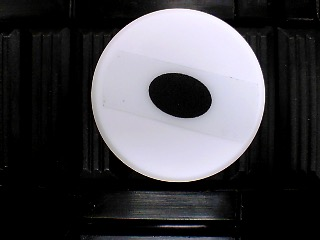BOHOEL: (89, 7, 266, 183)
